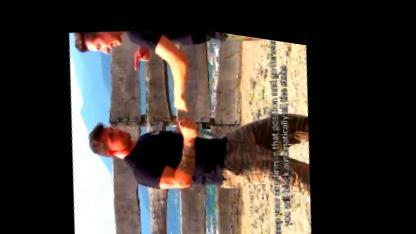knife: (180, 103, 233, 142)
